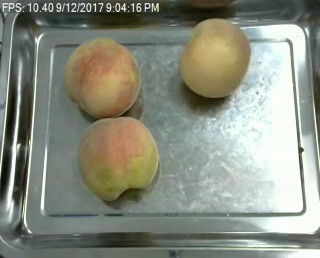Peach: (79, 116, 159, 200), (63, 37, 141, 116), (180, 18, 250, 99)
